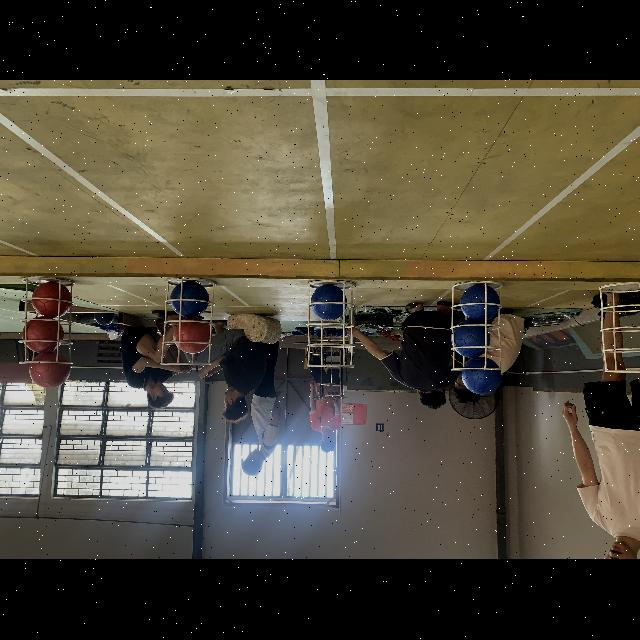B: (461, 358, 502, 396), (460, 284, 500, 322), (309, 283, 347, 321), (452, 322, 491, 358), (170, 282, 208, 318)
R: (32, 280, 72, 318), (29, 354, 71, 390), (22, 320, 62, 354), (172, 320, 210, 354)
